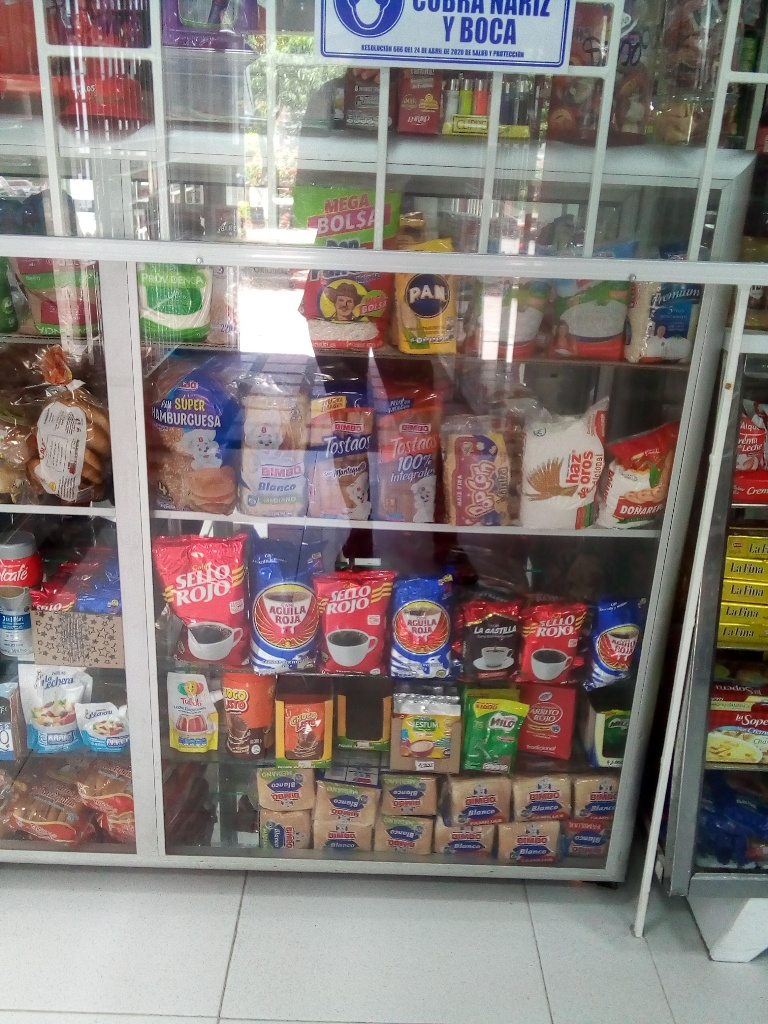COL0170103SOB02000: (278, 697, 328, 759)
